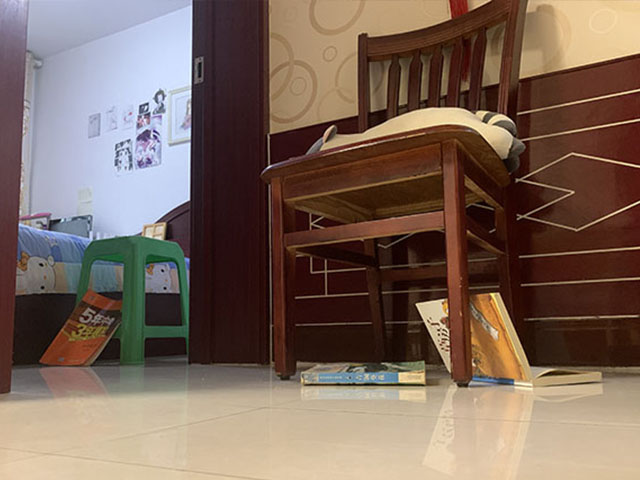bed: (22, 200, 188, 366)
book: (418, 292, 604, 388), (40, 288, 124, 368), (296, 357, 430, 387)
stool: (257, 1, 532, 388), (77, 233, 189, 366)
